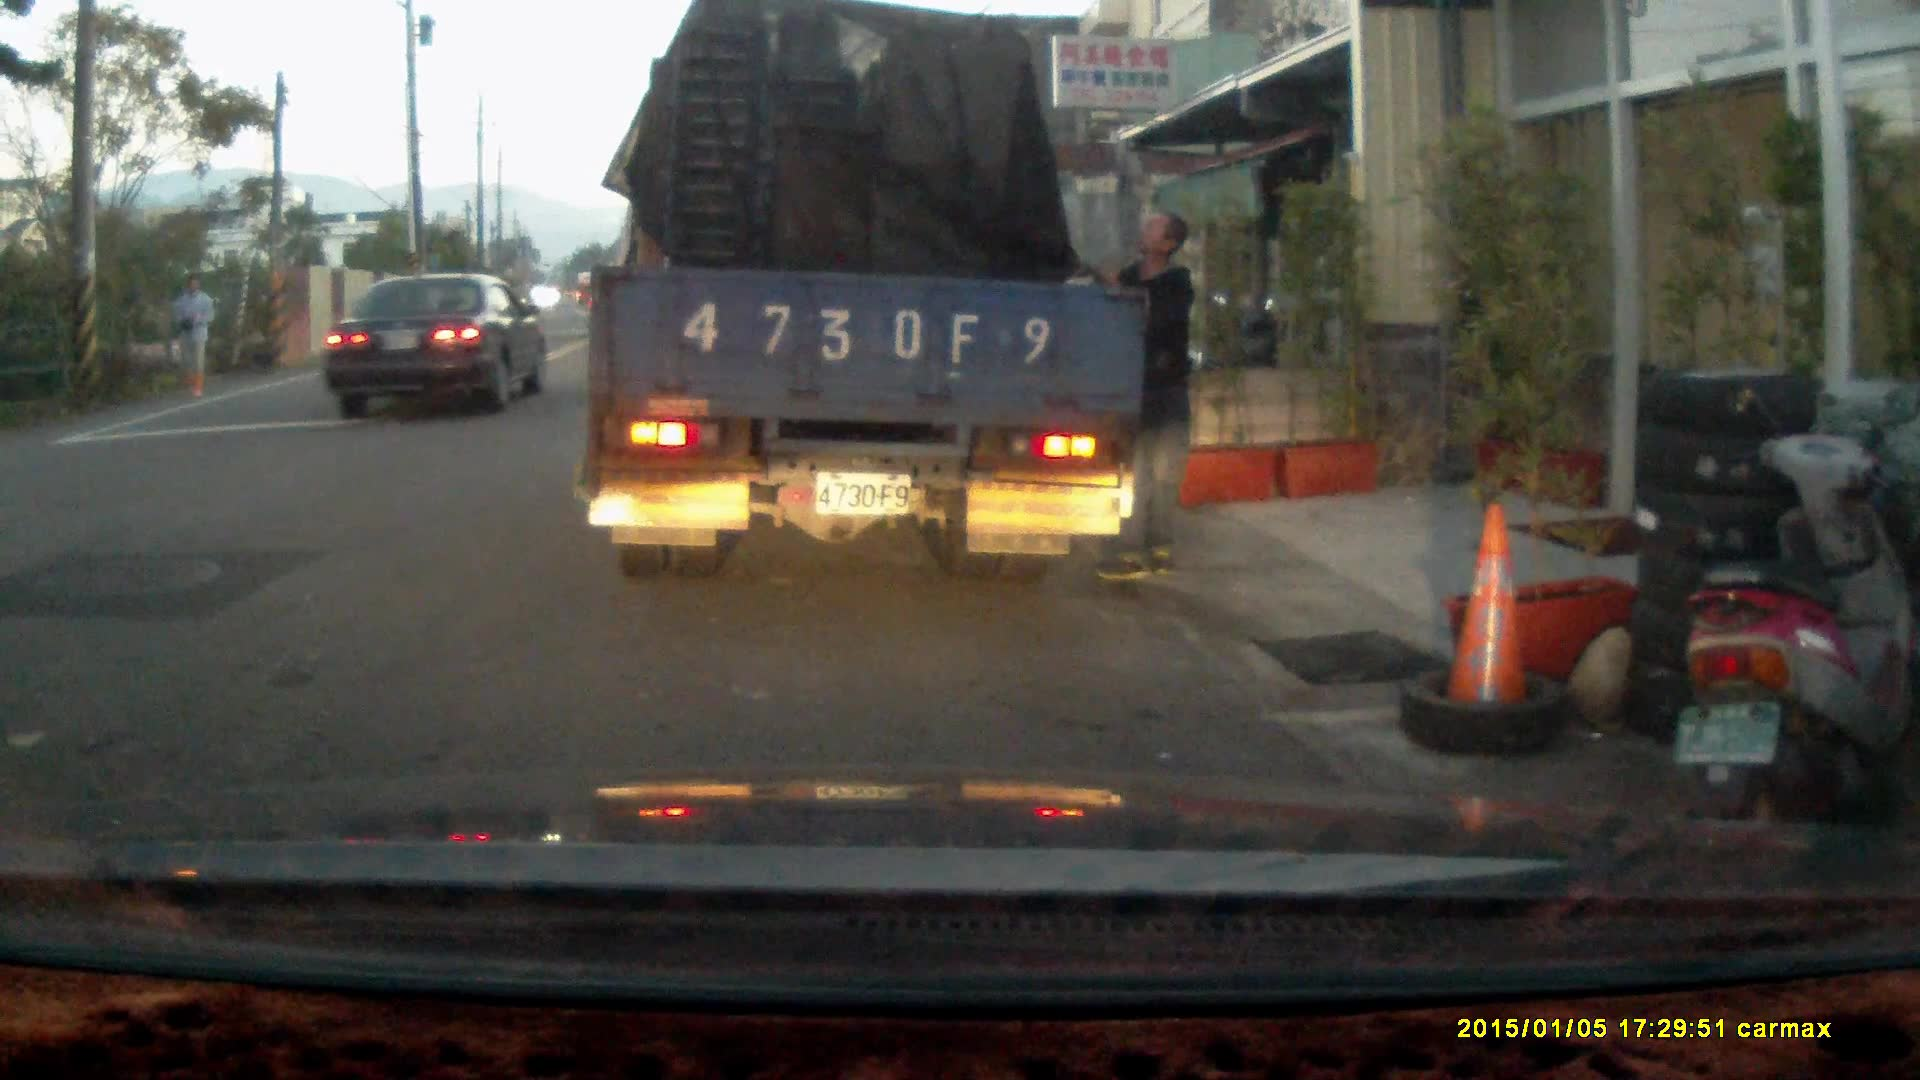pedestrian: (1075, 207, 1197, 581), (168, 272, 214, 402)
vehicle: (589, 23, 1146, 572), (324, 270, 550, 424)
